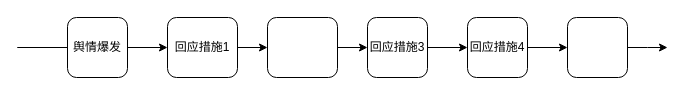
This 693x95 diagram has some shape labels left out. Here are the shapes that lost their labels. From the top down, the centre of each, then its label:
At [302,47]: "回应措施2".
At [597,47]: "回应措施5".
